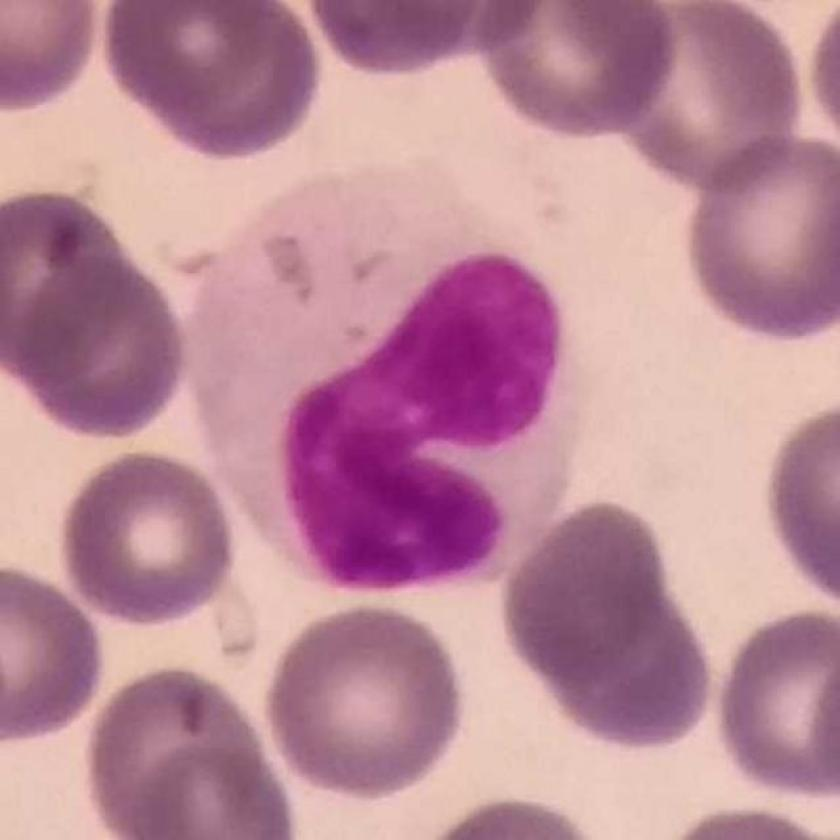monocyte: (186, 179, 598, 593)
